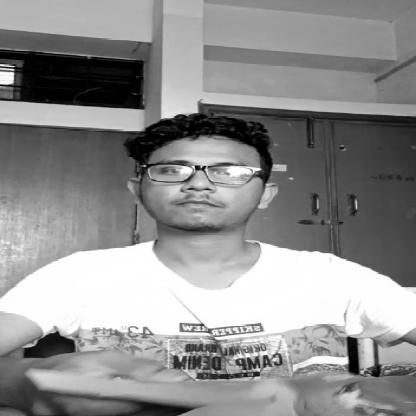Normal: (130, 131, 286, 240)
